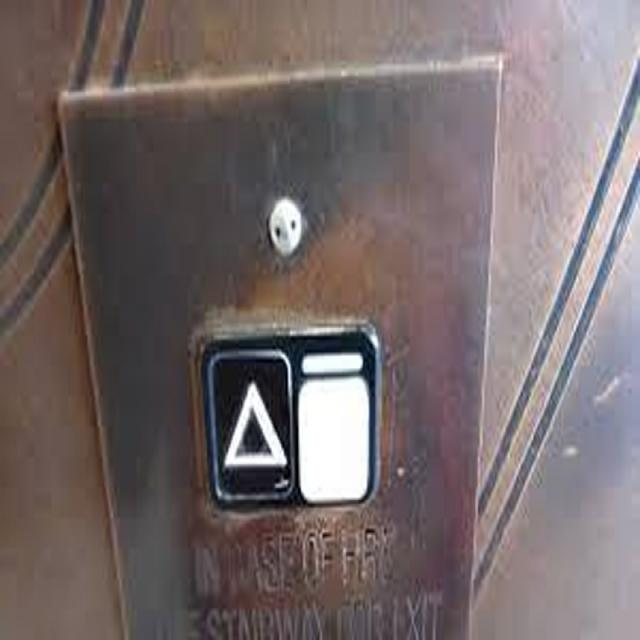up: (186, 310, 385, 522)
